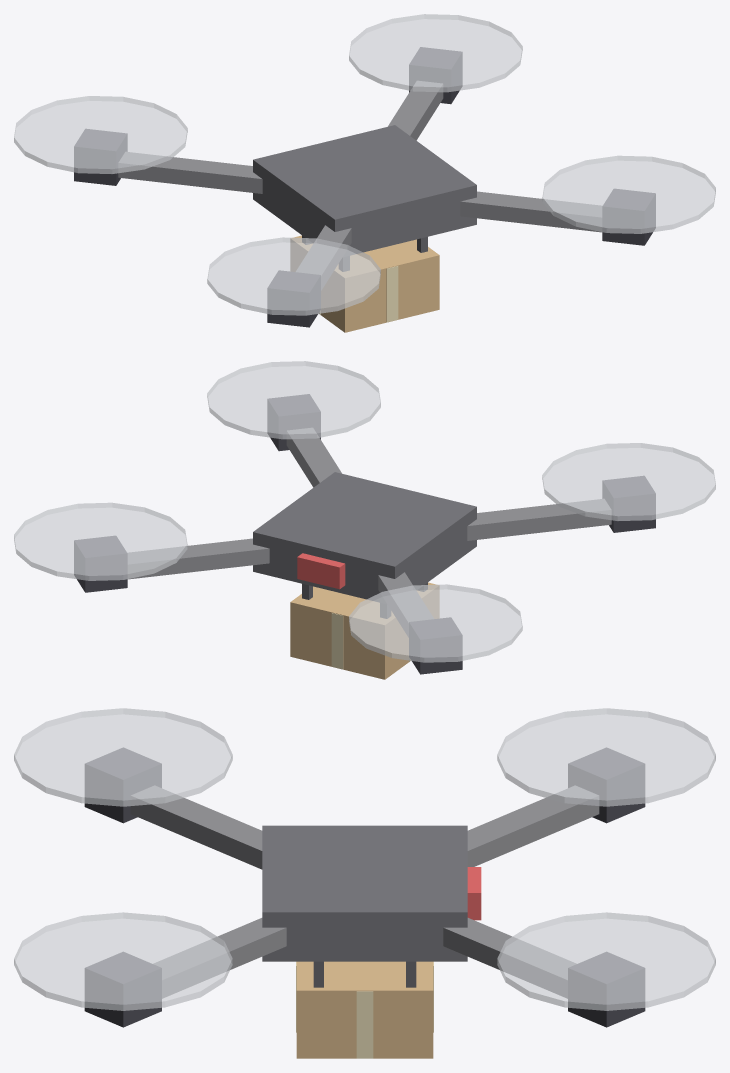
File: quadrotor.gltf
3 views of the same model, one above another, from view 1: azimuth 30°, elevation 25°; view 2: azimuth 150°, elevation 25°; view 3: azimuth 270°, elevation 25° (orthographic). The views are drawn at different scales.
Visible parts, largest first — view 1: Quadrotor; view 2: Quadrotor; view 3: Quadrotor.
Part boxes in pixels (x1=…): Quadrotor: x1=14, y1=14, x2=715, y2=332; Quadrotor: x1=14, y1=361, x2=715, y2=679; Quadrotor: x1=14, y1=708, x2=715, y2=1058.
Size of the model in its own units: 1.03 by 0.28 by 1.03.
